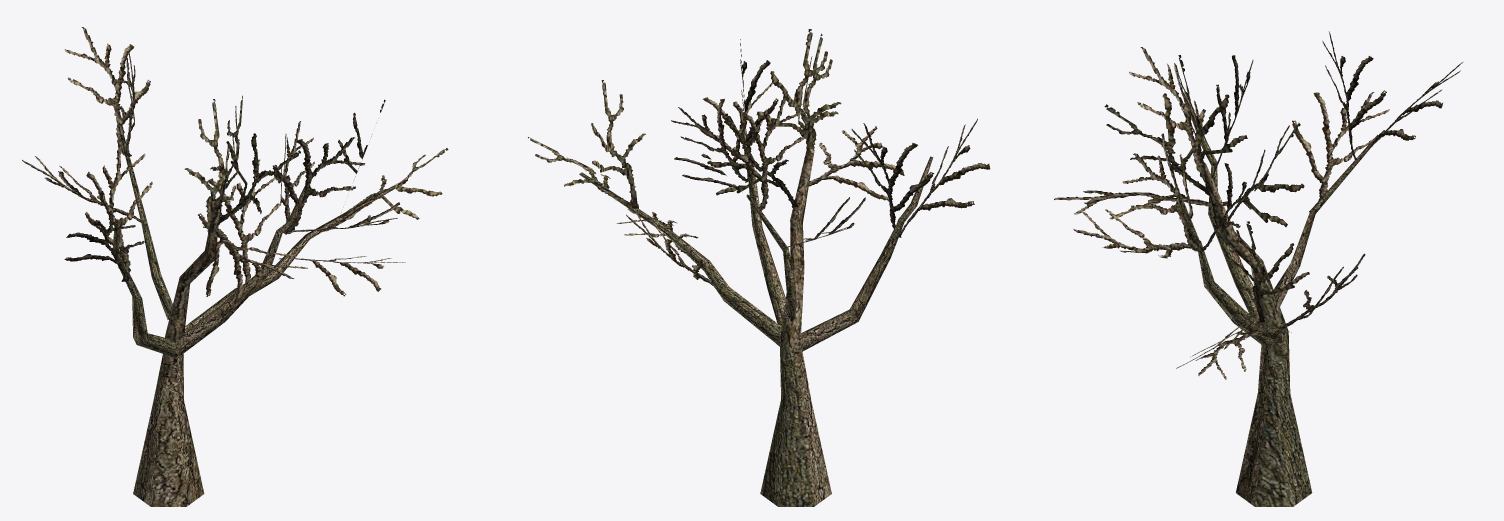
File: roble_seco_c.glb
3 renders of one model, left to right at view 1: azimuth 30°, elevation 25°; view 2: azimuth 150°, elevation 25°; view 3: azimuth 270°, elevation 25°, orthographic. The views are drawn at different scales.
Visible parts, largest first — view 1: Modelo; view 2: Modelo; view 3: Modelo.
Part boxes in pixels (<box>): Modelo: <box>22,27,448,506</box>; Modelo: <box>528,29,990,506</box>; Modelo: <box>1054,31,1462,506</box>.
Size of the model in its own units: 10.11 by 9.36 by 8.06.
1 material, 1 textured.
